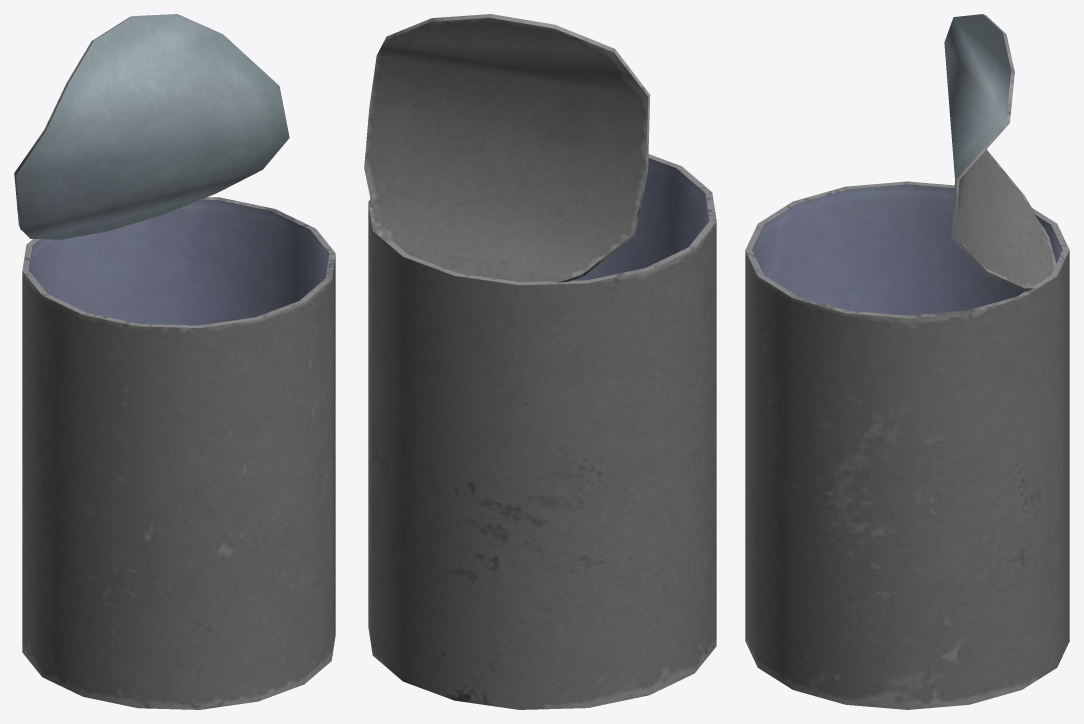
The model's file is Can_1_Opened.fbx.
3 renders of one model, left to right at view 1: azimuth 30°, elevation 25°; view 2: azimuth 150°, elevation 25°; view 3: azimuth 270°, elevation 25°, orthographic. The views are drawn at different scales.
Parts seen in each view (by area): view 1: Can_1_Opened; view 2: Can_1_Opened; view 3: Can_1_Opened.
Boxes of the visible parts, x1,y1,x2,y2 form: Can_1_Opened: (14, 14, 335, 709); Can_1_Opened: (364, 14, 716, 709); Can_1_Opened: (745, 14, 1069, 709).
Bounding box in the file's own units: 0.1129 × 0.2339 × 0.1129.
